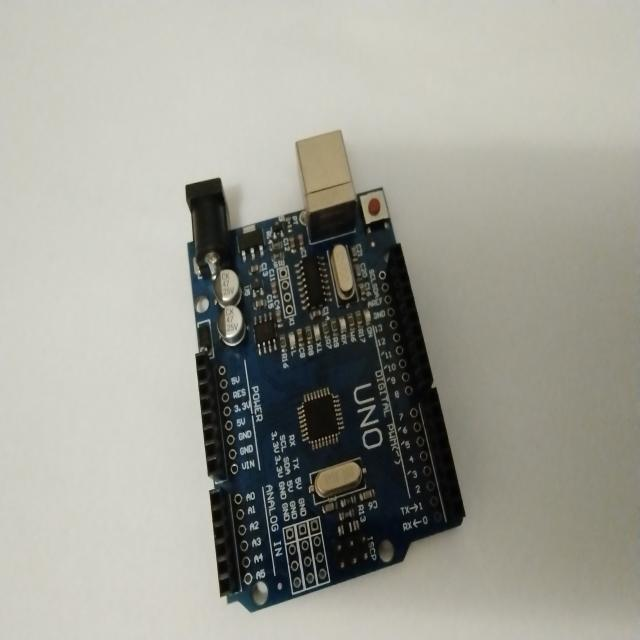arduino: (175, 122, 477, 611)
